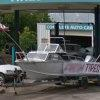Boat: (14, 38, 100, 86)
